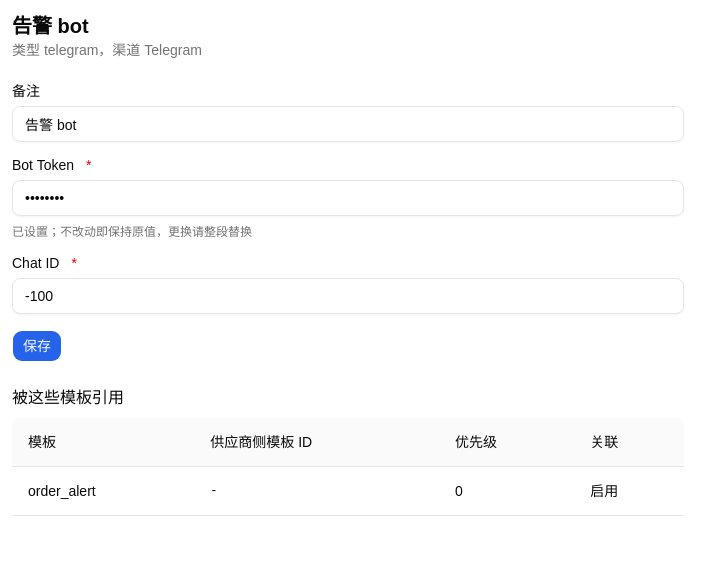
Test: 保存后重新拉取失败：错误显示在页内，表单还在
Replace the text in the field labelled "备注" with "新备注" at (348, 124), box [12,106,684,142]
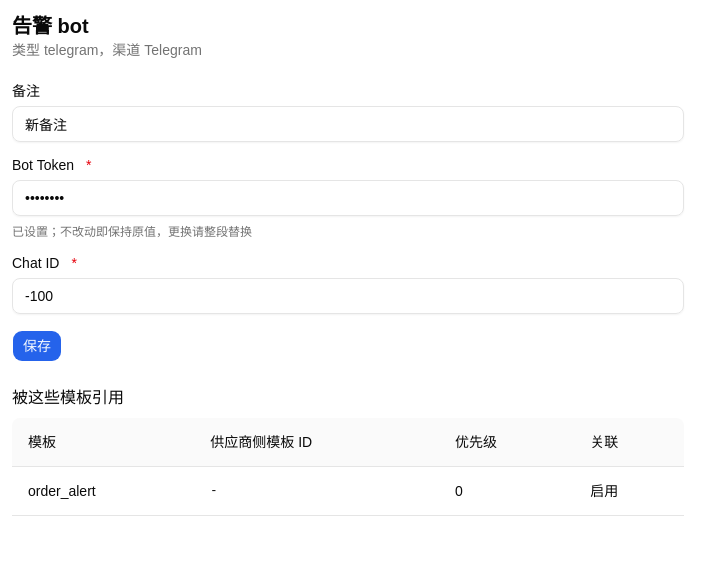
Click the button "保存" at (37, 346), box [12,330,62,362]
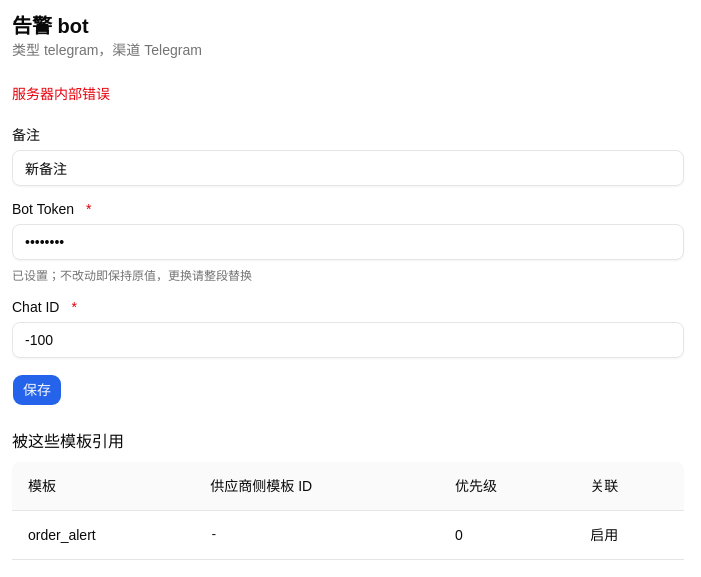
Expected: the text "服务器内部错误" is shown, [12,86,110,102]
